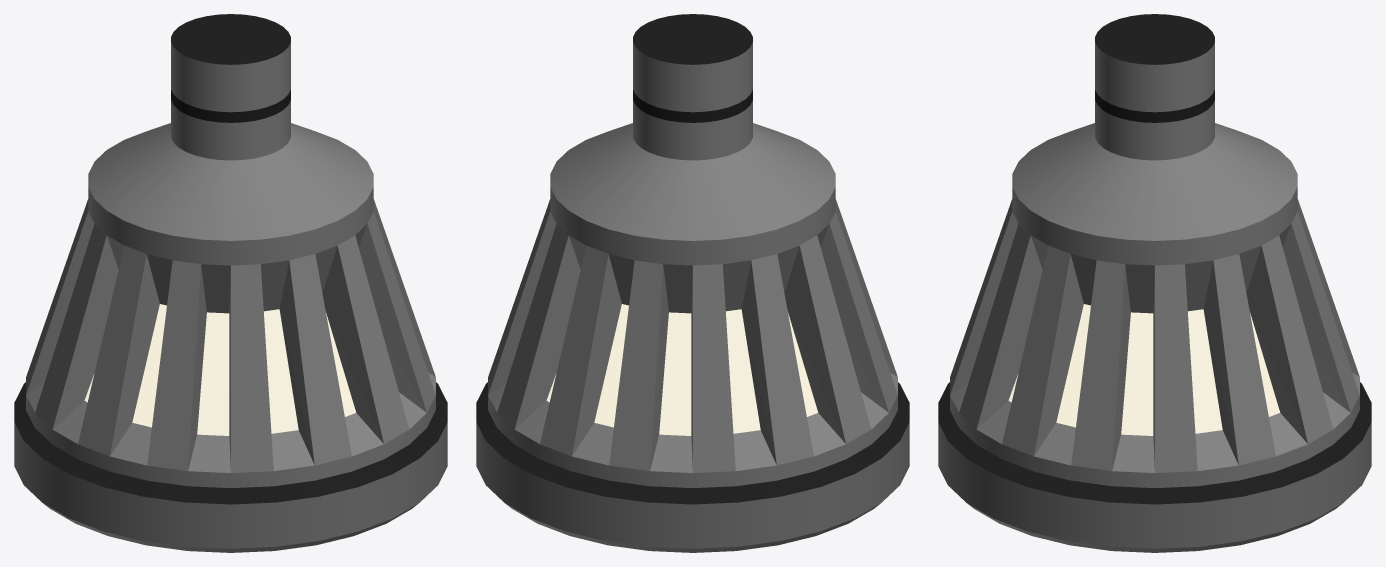
File: Bulb.fbx
3 renders of one model, left to right at view 1: azimuth 30°, elevation 25°; view 2: azimuth 150°, elevation 25°; view 3: azimuth 270°, elevation 25°, orthographic.
Parts seen in each view (by area): view 1: halogen round recessed light; view 2: halogen round recessed light; view 3: halogen round recessed light.
Part boxes in pixels (box(x1,y1,x2,y2)): halogen round recessed light: box(14, 14, 447, 552); halogen round recessed light: box(476, 14, 909, 552); halogen round recessed light: box(938, 14, 1371, 552).
Bounding box in the file's own units: 9.33 × 10.04 × 9.28.
